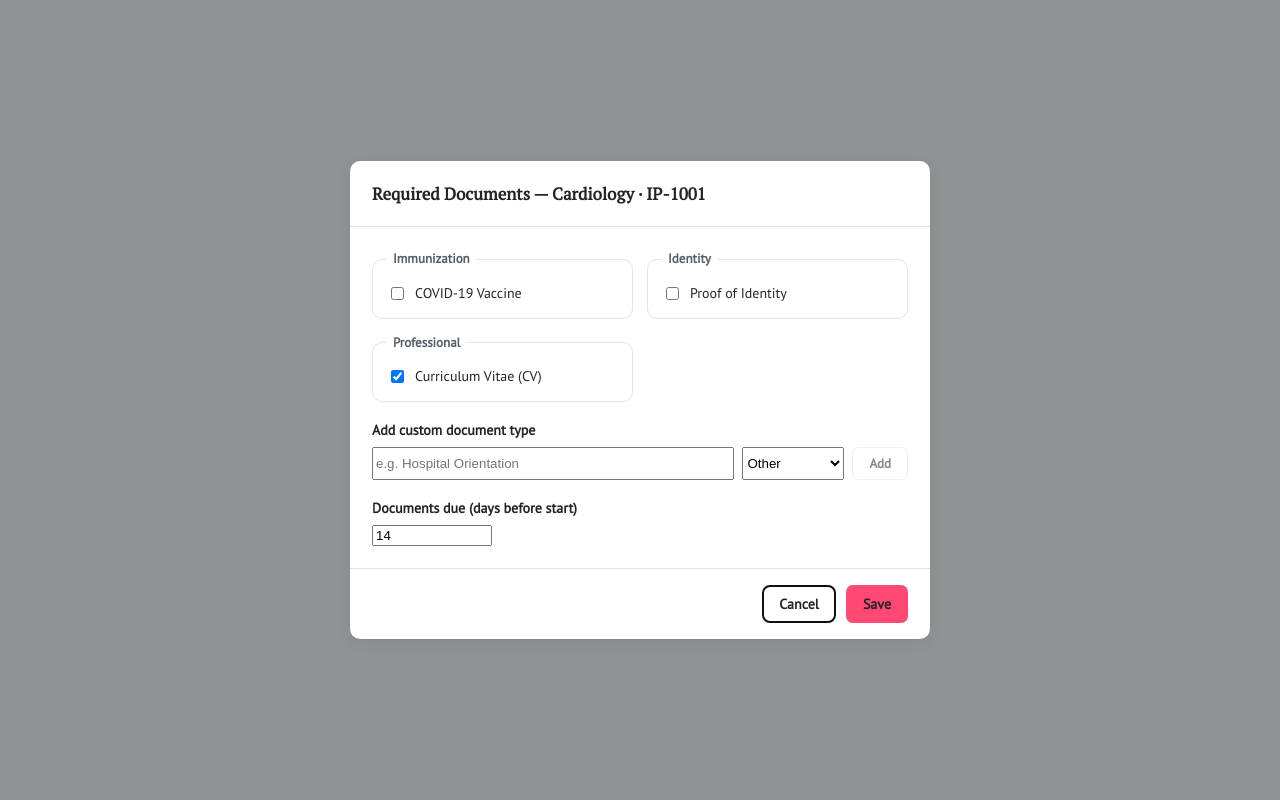
Test: ProgramDocumentsModal › adds a custom document type, surfaces it as a checked box, and preserves in-progress edits
The image size is (1280, 800).
Expected: the text "Curriculum Vitae (CV)" is shown, x1=391 y1=367 x2=542 y2=385
# Admin edits in-progress: check another type and change due-days BEFORE adding a custom type.
Click the checkbox labelled "COVID-19 Vaccine" at (398, 293), box x1=391 y1=287 x2=404 y2=300
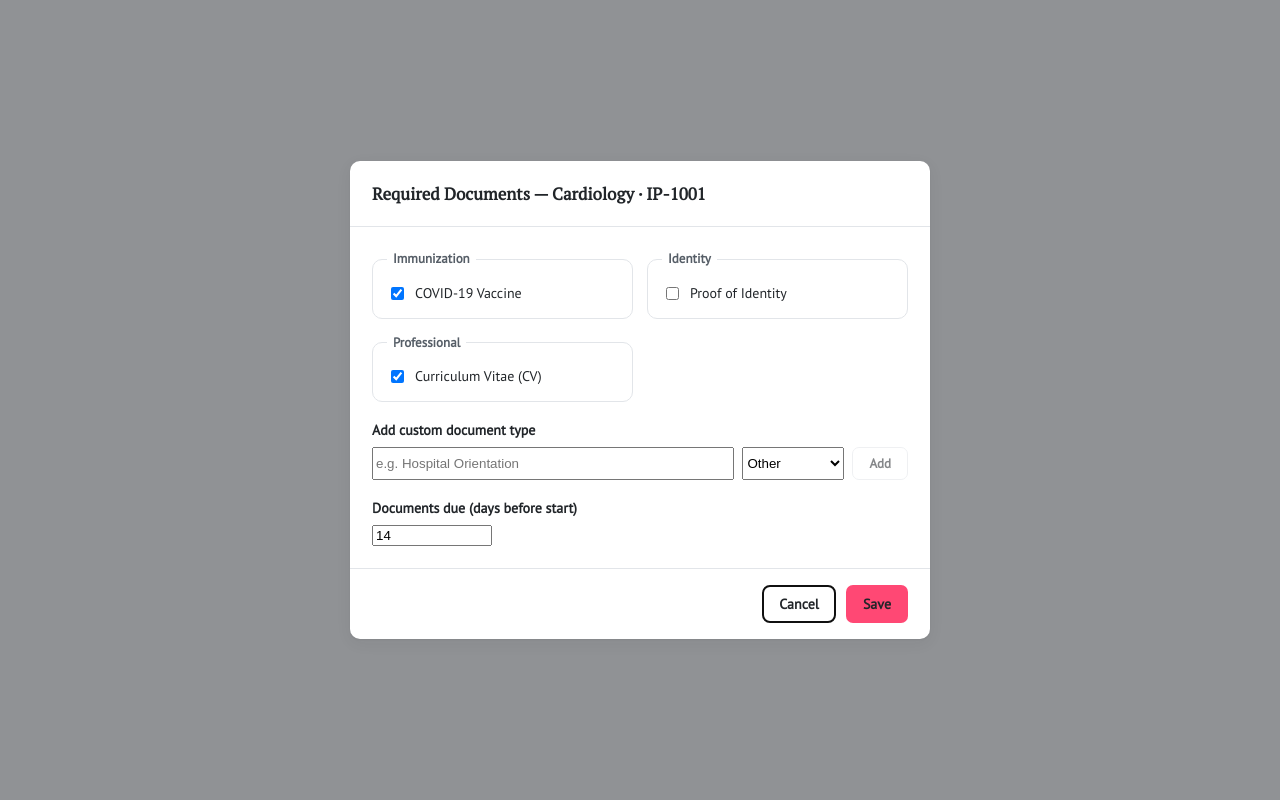
Replace the text in the number field labelled "Documents due (days before start)" with "5" at (432, 536), box x1=372 y1=525 x2=492 y2=546
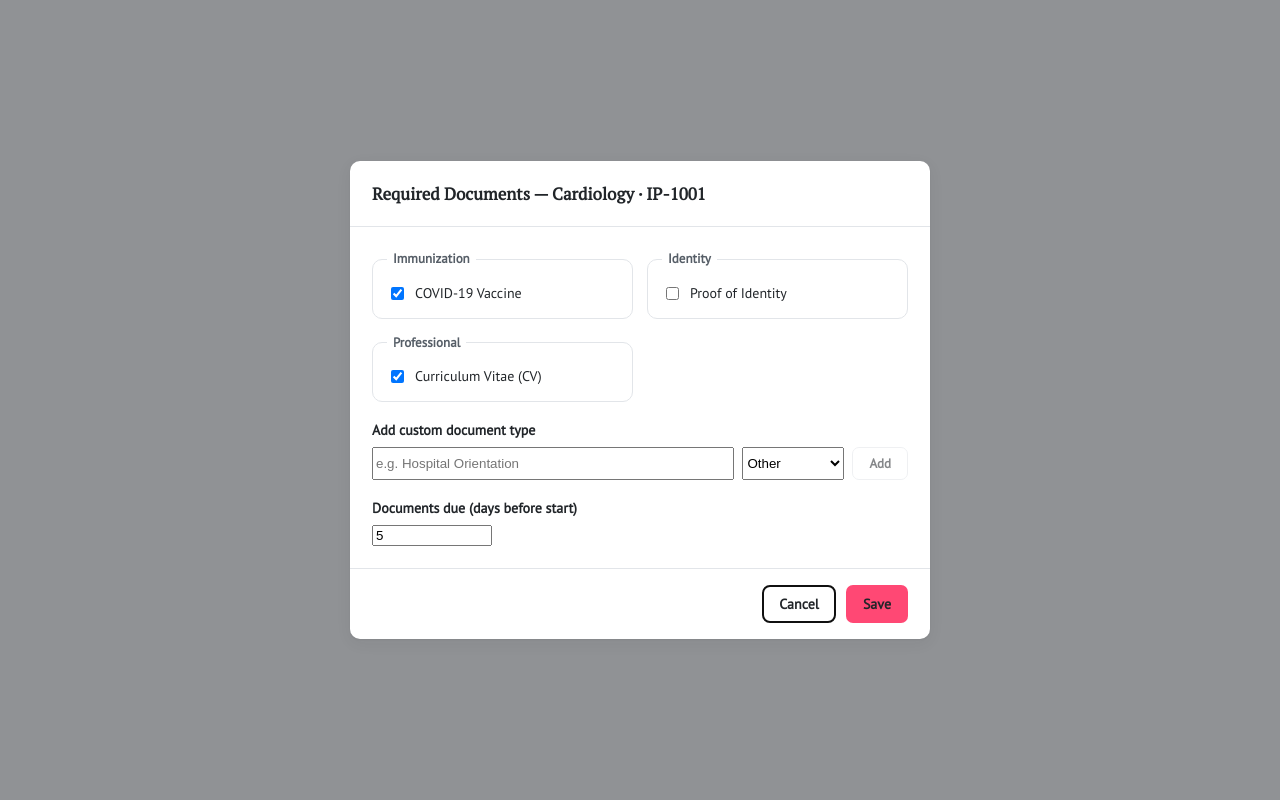
Type "Hospital Orientation" into the field with placeholder "e.g. Hospital Orientation" at (553, 464), box x1=372 y1=447 x2=734 y2=480
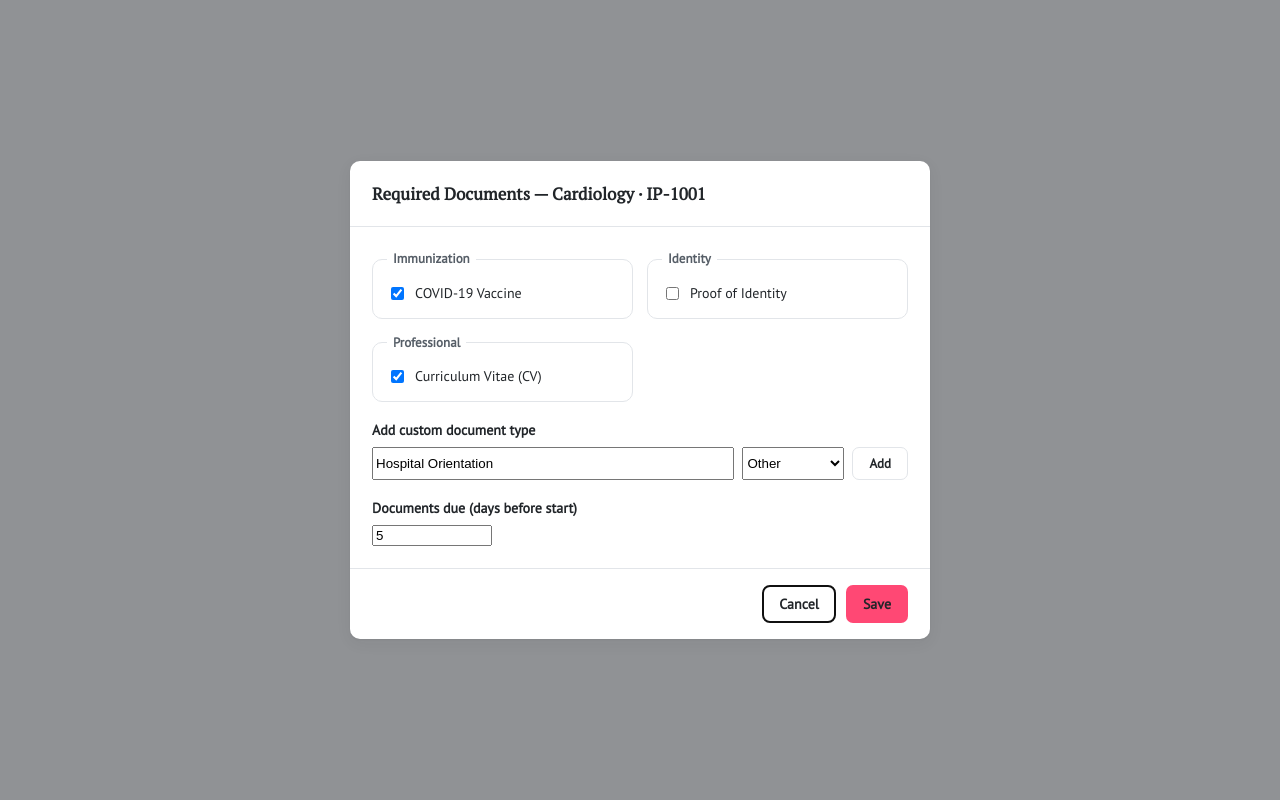
Click the button "Add" at (880, 464), box x1=852 y1=447 x2=908 y2=480
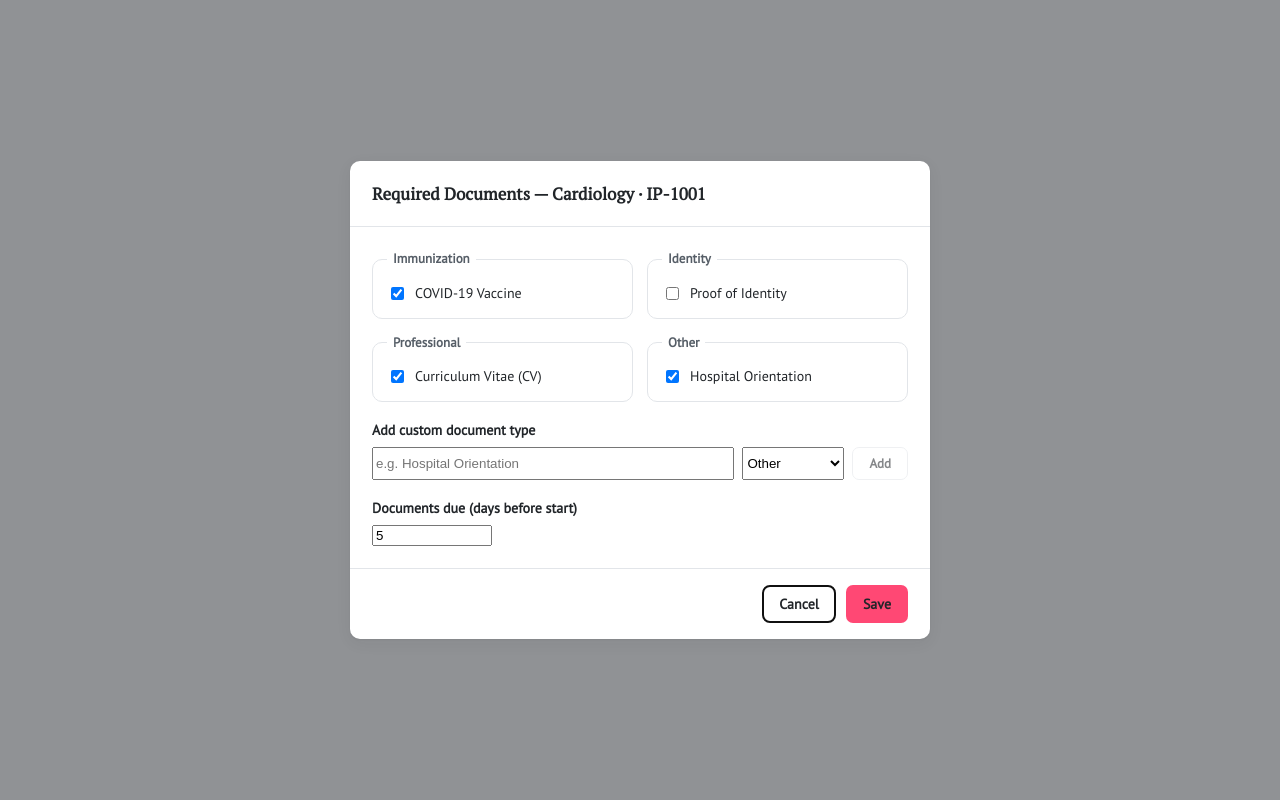
Expected: the checkbox labelled "COVID-19 Vaccine" is checked, x1=391 y1=287 x2=404 y2=300
Expected: the checkbox labelled "Hospital Orientation" is checked, x1=666 y1=370 x2=679 y2=383
